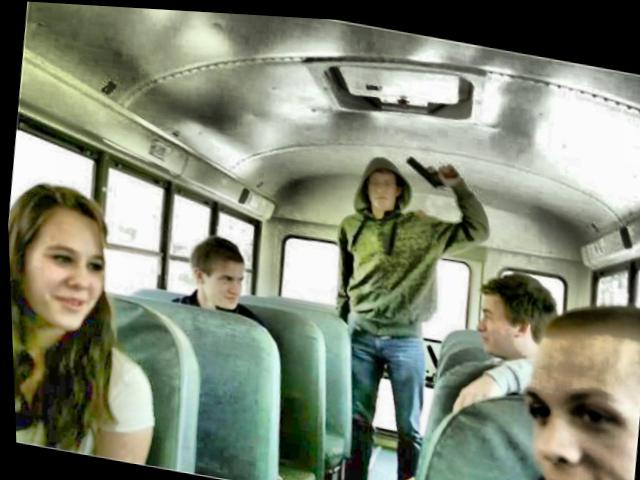pistol: (401, 150, 457, 186)
